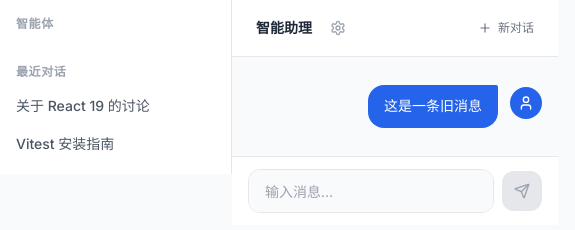
Test case: Chat page integration tests › can start a new session by clicking "新对话"
Expected: the text "这是一条旧消息" is shown, [384, 95, 482, 118]
Click the button "新对话".
click(506, 28)  # box [478, 20, 534, 36]
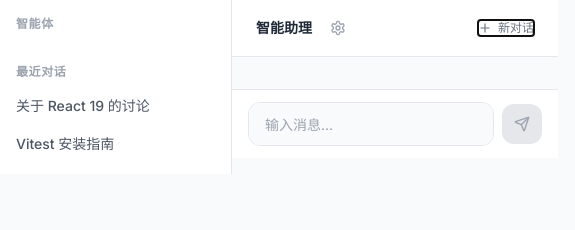
Expected: the text "这是一条旧消息" is gone
